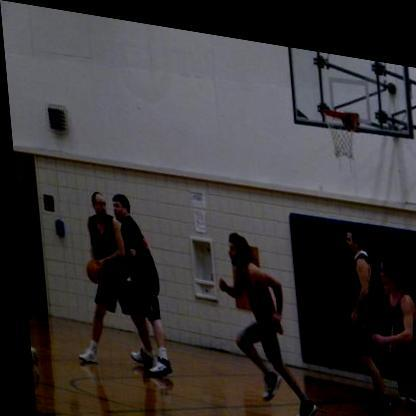basketball: (81, 255, 98, 284)
rim: (319, 96, 359, 114)
